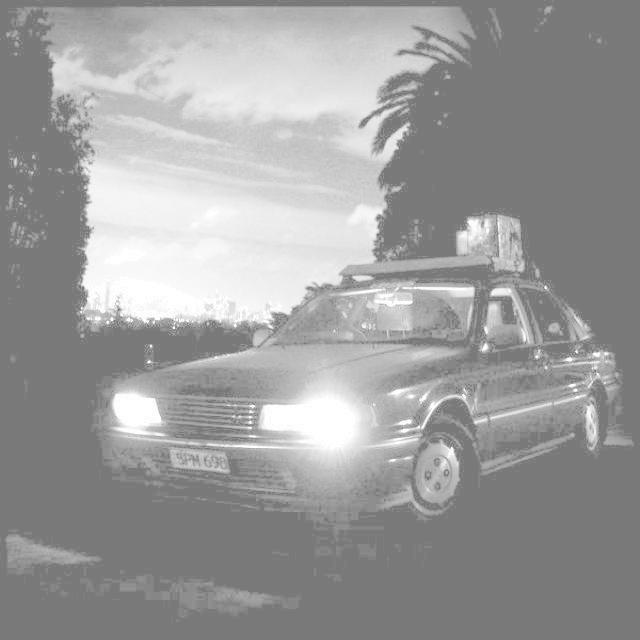Car: (107, 249, 609, 535)
